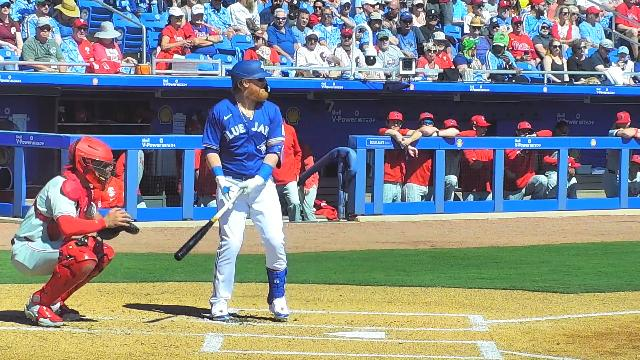baseball bat: (173, 188, 243, 260)
